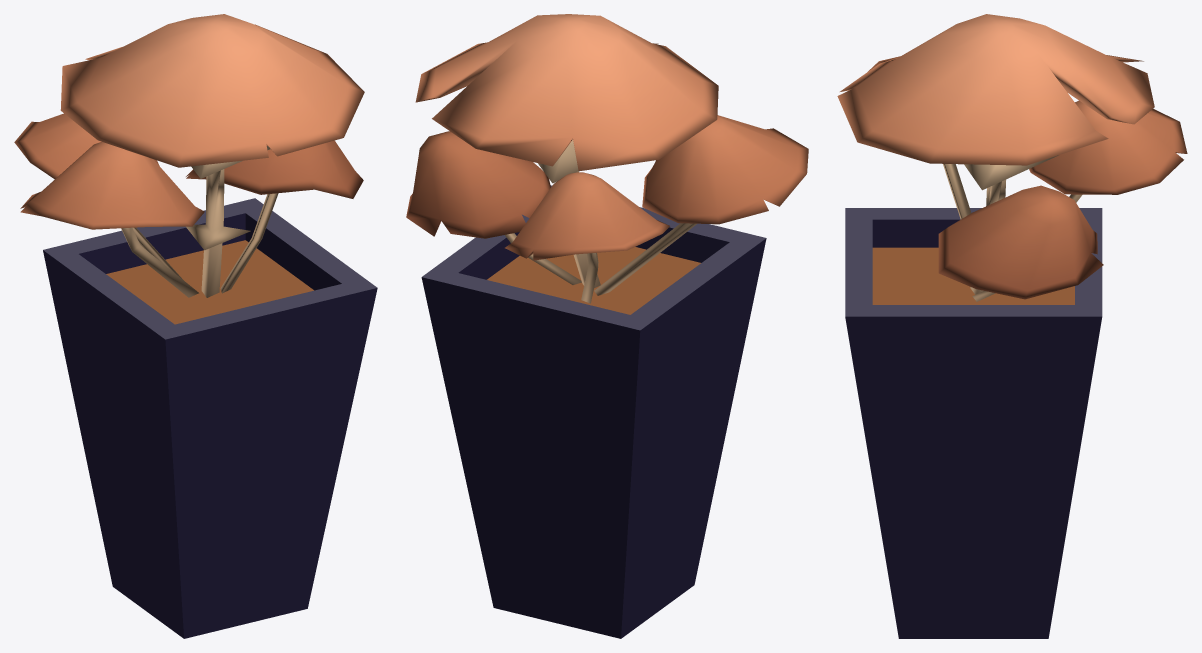
Rendered from pfp29.fbx.
3 views of the same model, side by side, from view 1: azimuth 30°, elevation 25°; view 2: azimuth 150°, elevation 25°; view 3: azimuth 270°, elevation 25° (orthographic). The views are drawn at different scales.
Parts seen in each view (by area): view 1: pfp29; view 2: pfp29; view 3: pfp29.
Part boxes in pixels (x1,y1,x2,y2): pfp29: (14,14,377,638); pfp29: (406,14,808,638); pfp29: (837,14,1187,638).
Size of the model in its own units: 32.41 by 50.95 by 27.42.
